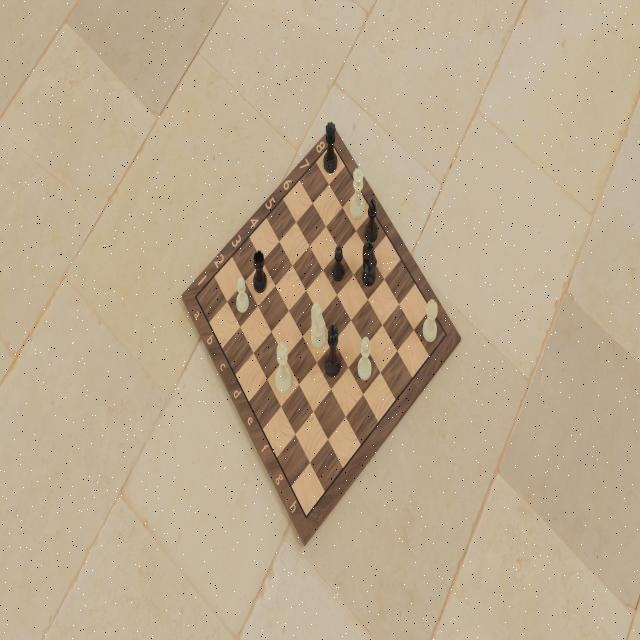black-bishop: (364, 198, 380, 242)
black-king: (324, 320, 343, 379)
black-knight: (362, 239, 378, 289)
black-pawn: (331, 244, 344, 284)
black-queen: (321, 120, 338, 175)
black-rook: (252, 249, 267, 295)
white-bishop: (358, 336, 374, 384)
white-king: (274, 338, 294, 397)
white-knight: (309, 300, 326, 348)
white-pawn: (235, 275, 249, 315)
white-queen: (351, 166, 368, 221)
white-rook: (422, 295, 438, 344)
